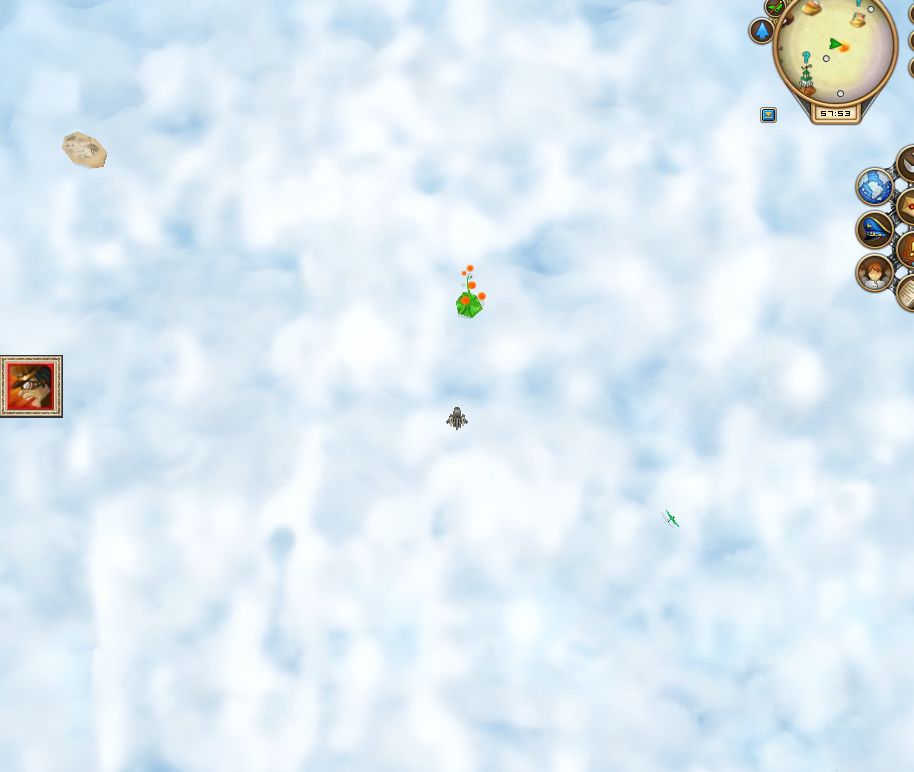dandelion-full: (449, 261, 489, 321)
